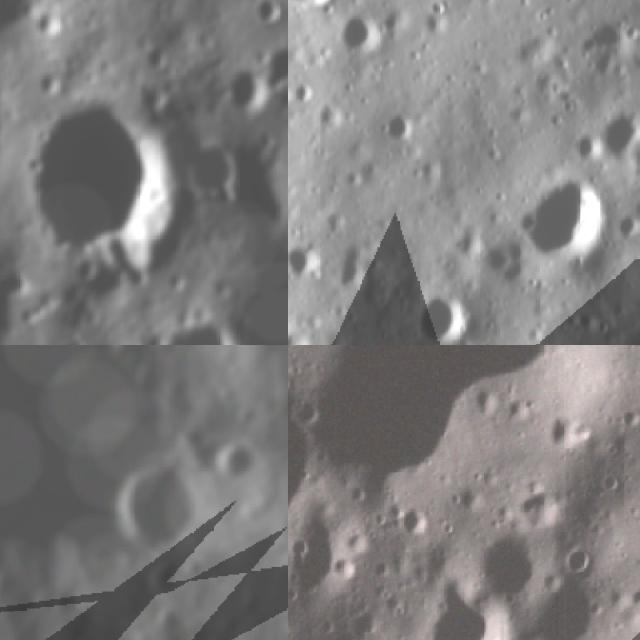crater: (21, 95, 165, 278), (497, 151, 633, 285), (81, 443, 217, 571), (288, 492, 374, 601), (466, 517, 562, 608), (526, 567, 624, 640), (421, 578, 530, 640), (471, 224, 545, 297), (400, 280, 483, 345), (572, 7, 640, 84), (117, 307, 246, 345), (321, 3, 392, 70), (317, 233, 383, 301), (186, 125, 241, 196), (202, 430, 261, 492), (373, 100, 428, 154), (288, 231, 331, 293), (575, 42, 628, 91), (410, 0, 460, 50), (218, 67, 264, 118), (612, 119, 640, 194), (369, 6, 415, 50), (398, 487, 436, 540), (542, 410, 587, 450), (288, 0, 348, 24), (175, 548, 209, 582), (264, 41, 288, 88), (243, 0, 280, 28), (288, 319, 323, 345), (232, 577, 258, 605), (583, 0, 626, 14)
